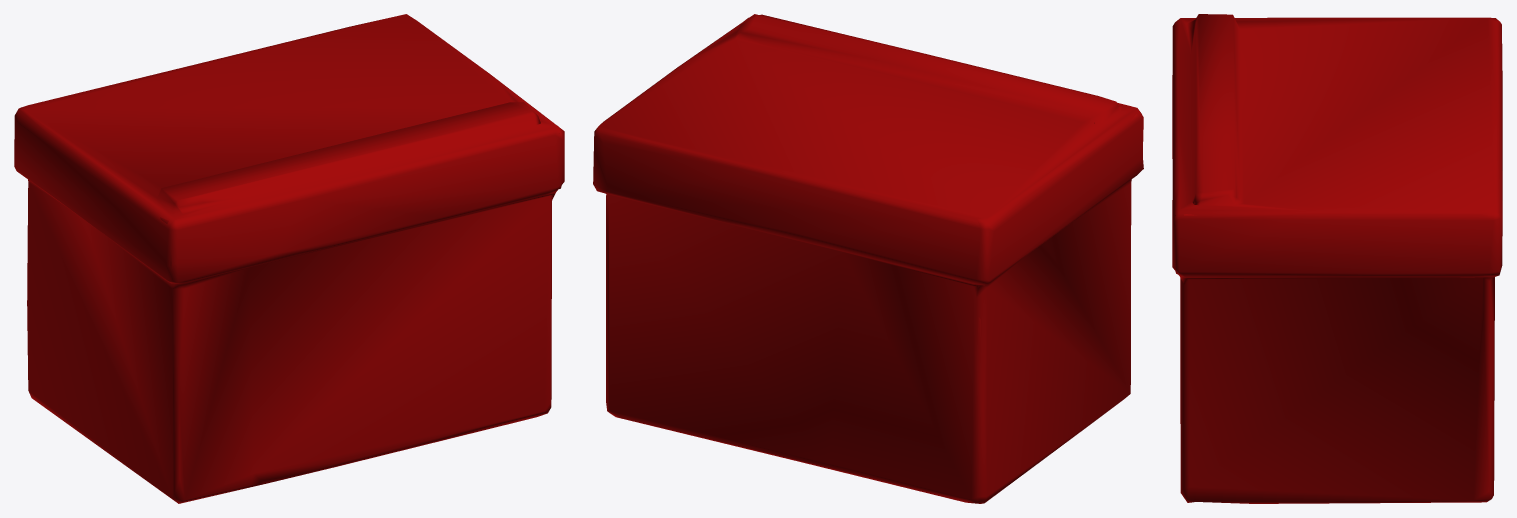
Rendered from gen3d-toolbox-lod1.glb.
The picture shows the model from 3 angles, left to right: view 1: azimuth 30°, elevation 25°; view 2: azimuth 150°, elevation 25°; view 3: azimuth 270°, elevation 25°; orthographic projection. The views are drawn at different scales.
Visible parts, largest first — view 1: part_0; view 2: part_0; view 3: part_0.
Boxes of the visible parts, box(x1,y1,x2,y2) form: part_0: box(14, 14, 564, 503); part_0: box(593, 14, 1143, 503); part_0: box(1172, 14, 1502, 503).
Bounding box in the file's own units: 1.38 × 0.9993 × 0.9677.
